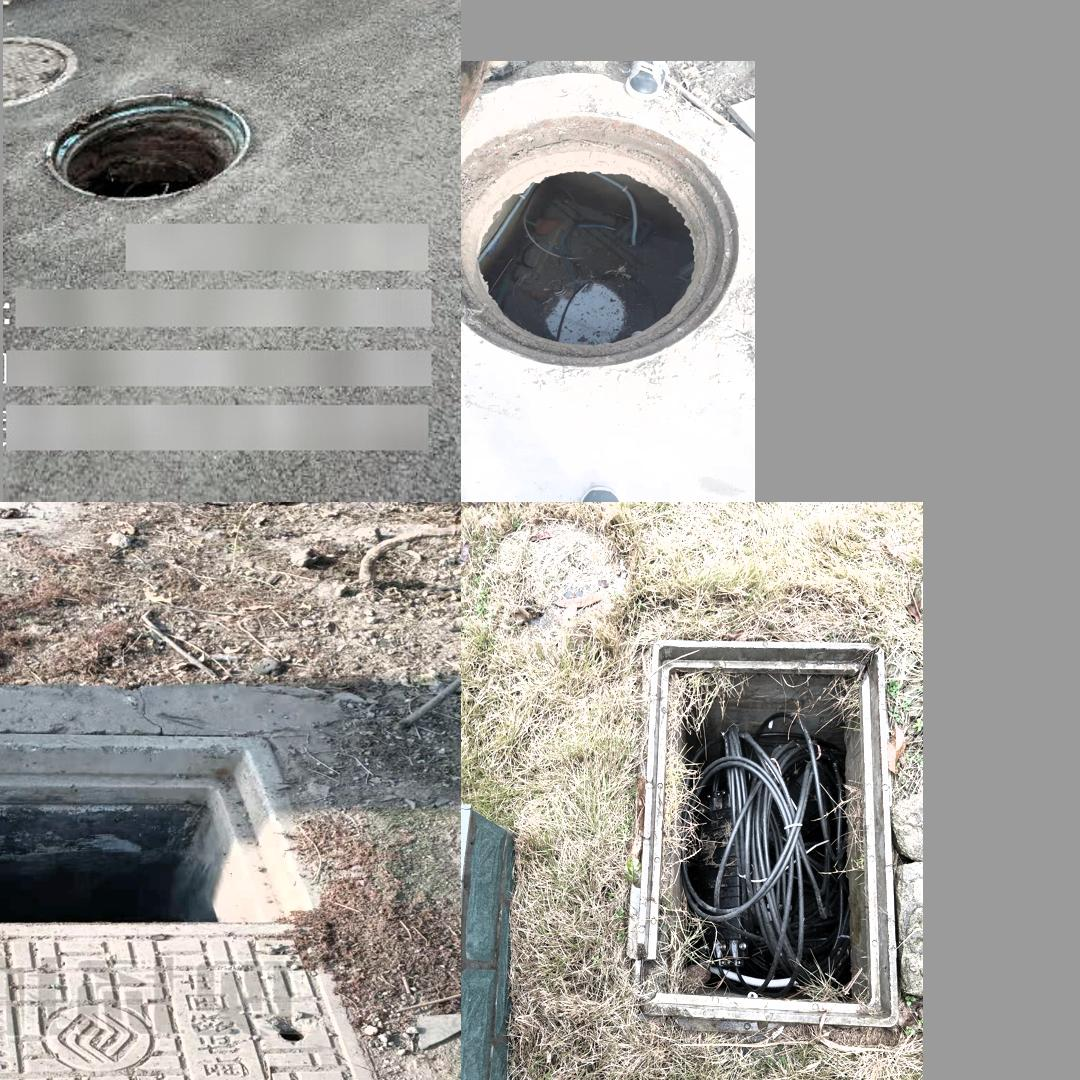lose: (0, 729, 407, 1080), (633, 632, 896, 1022), (464, 113, 738, 370), (44, 92, 252, 203)
